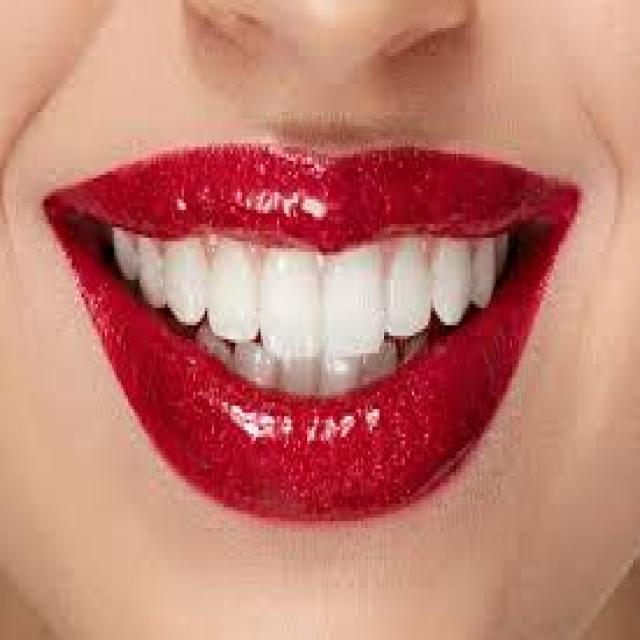tooth: (263, 255, 321, 343), (331, 259, 382, 343), (212, 252, 258, 336), (391, 248, 431, 336), (172, 245, 205, 322), (438, 245, 470, 318), (235, 349, 275, 392), (142, 245, 168, 301), (112, 234, 137, 287), (475, 241, 493, 301), (282, 364, 318, 392), (328, 356, 356, 392), (366, 353, 394, 378), (207, 342, 231, 363), (500, 238, 512, 266)
